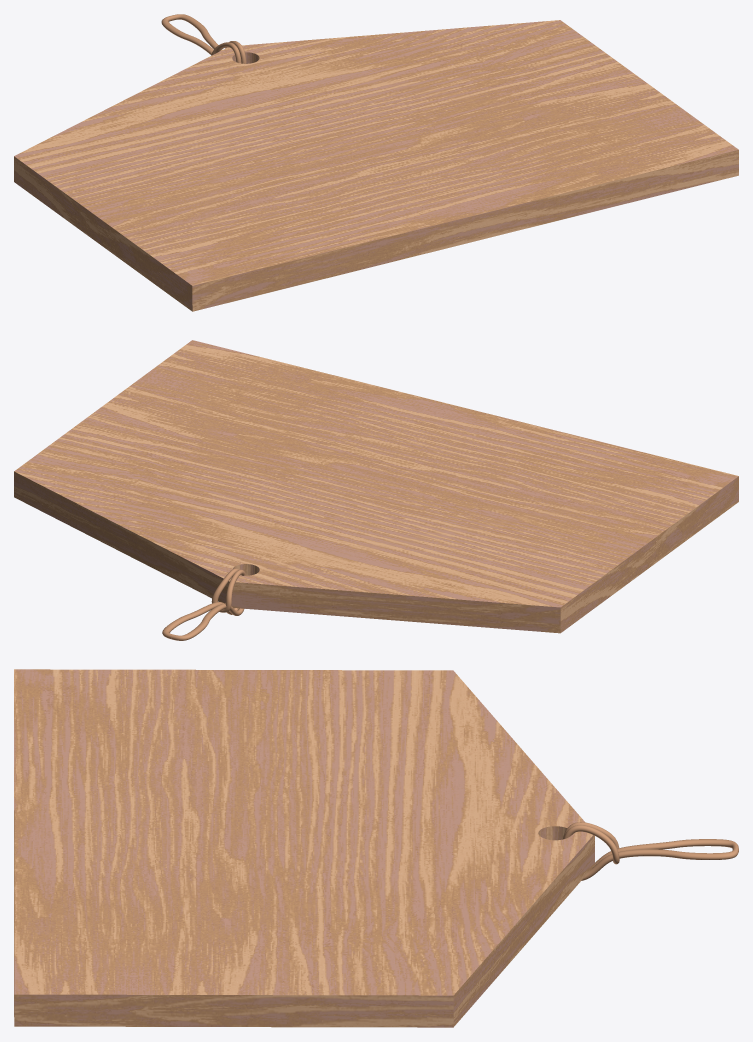
3 views of the same model, one above another, from view 1: azimuth 30°, elevation 25°; view 2: azimuth 150°, elevation 25°; view 3: azimuth 270°, elevation 25° (orthographic). The views are drawn at different scales.
Parts seen in each view (by area): view 1: 立方体.011; view 2: 立方体.011; view 3: 立方体.011.
Part boxes in pixels (bbox=[...]): 立方体.011: bbox=[14, 14, 738, 311]; 立方体.011: bbox=[14, 340, 738, 640]; 立方体.011: bbox=[14, 669, 738, 1027].
Size of the model in its own units: 26.43 by 2.07 by 24.64.
Materials: 1 (1 with a texture image).
